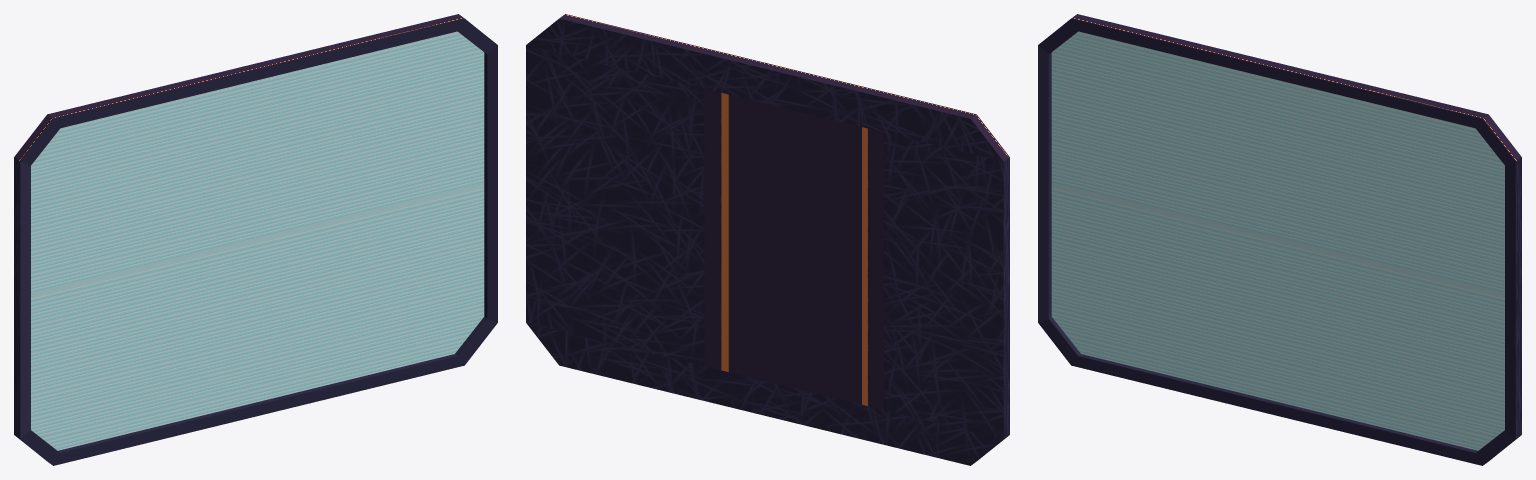
Rendered from Leaderboard_Art.glb.
The picture shows the model from 3 angles, left to right: view 1: azimuth 30°, elevation 25°; view 2: azimuth 150°, elevation 25°; view 3: azimuth 330°, elevation 25°; orthographic projection.
Parts seen in each view (by area): view 1: Leaderboard_Art; view 2: Leaderboard_Art; view 3: Leaderboard_Art.
Boxes of the visible parts, bbox=[...] form: Leaderboard_Art: bbox=[14, 14, 497, 465]; Leaderboard_Art: bbox=[526, 14, 1009, 465]; Leaderboard_Art: bbox=[1038, 14, 1521, 465].
Bounding box in the file's own units: 3.15 × 2.18 × 0.07.
2 materials, 2 textured.
